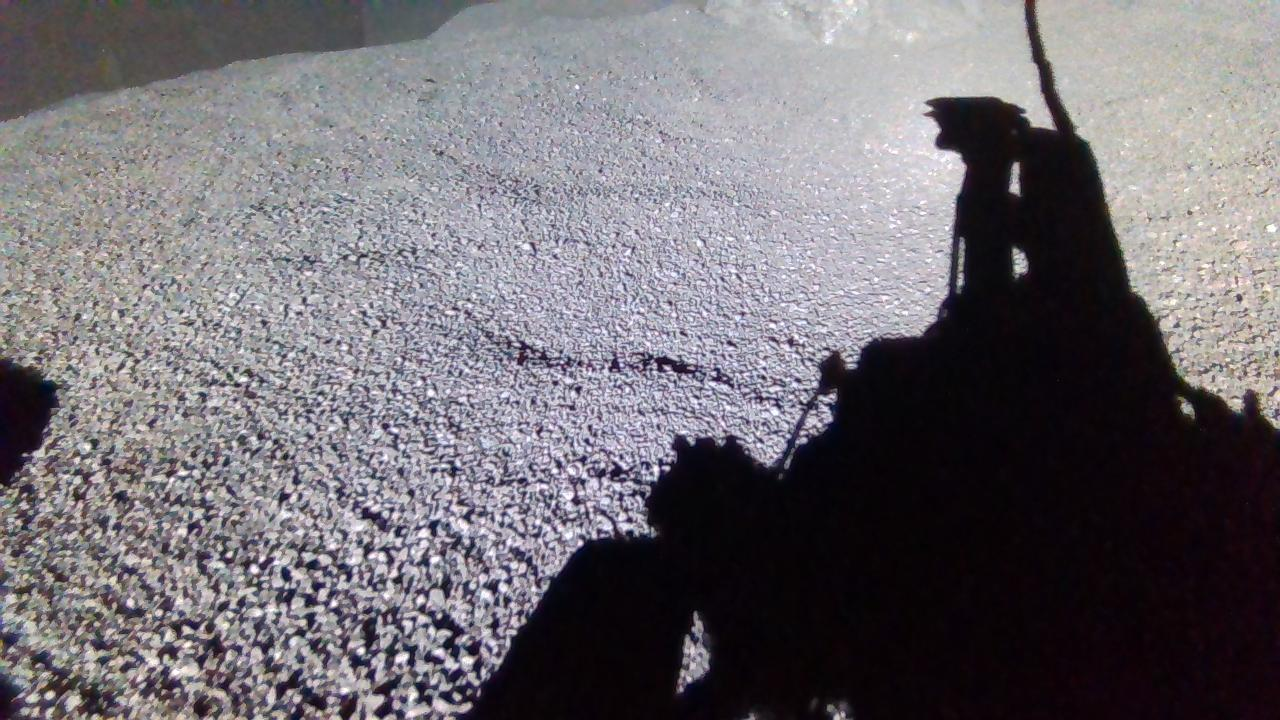rock: (706, 0, 983, 44)
